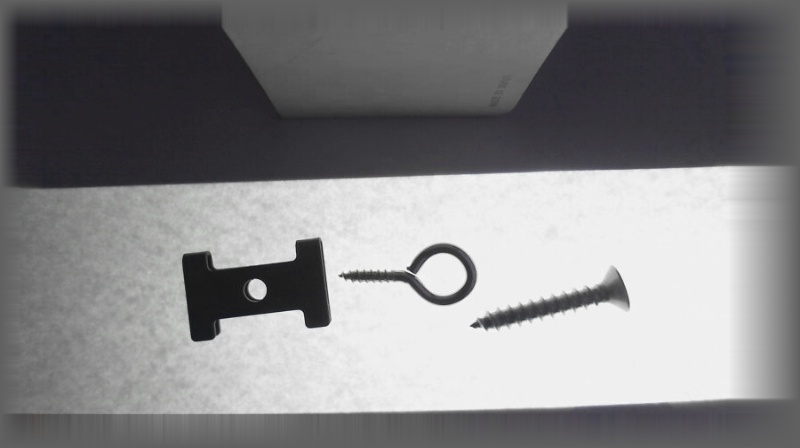O001: (338, 243, 478, 305)
O002: (181, 237, 332, 342)
S001: (471, 263, 630, 330)
